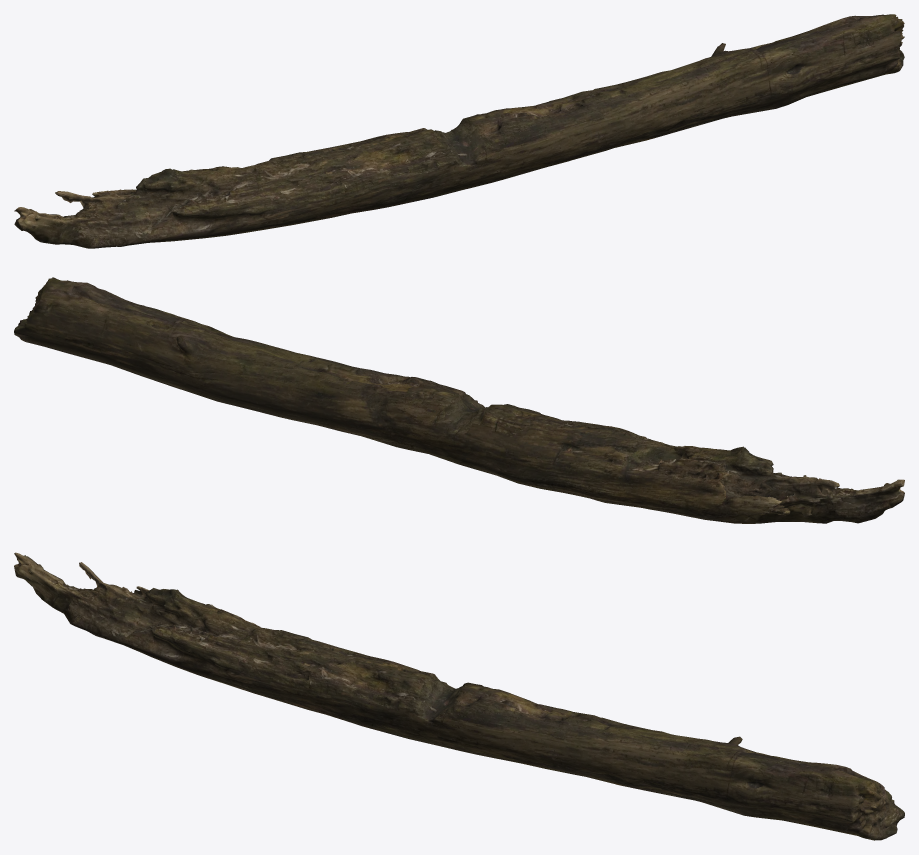
Rendered from driftwood.glb.
The picture shows the model from 3 angles, top to bottom: view 1: azimuth 30°, elevation 25°; view 2: azimuth 150°, elevation 25°; view 3: azimuth 330°, elevation 25°; orthographic projection.
Visible parts, largest first — view 1: dead_tree_trunk; view 2: dead_tree_trunk; view 3: dead_tree_trunk.
Boxes of the visible parts, bbox=[...] form: dead_tree_trunk: bbox=[14, 14, 904, 248]; dead_tree_trunk: bbox=[14, 277, 904, 523]; dead_tree_trunk: bbox=[14, 552, 904, 840].
Size of the model in its own units: 3.05 by 0.2898 by 0.2775.
Materials: 1 (1 with a texture image).
